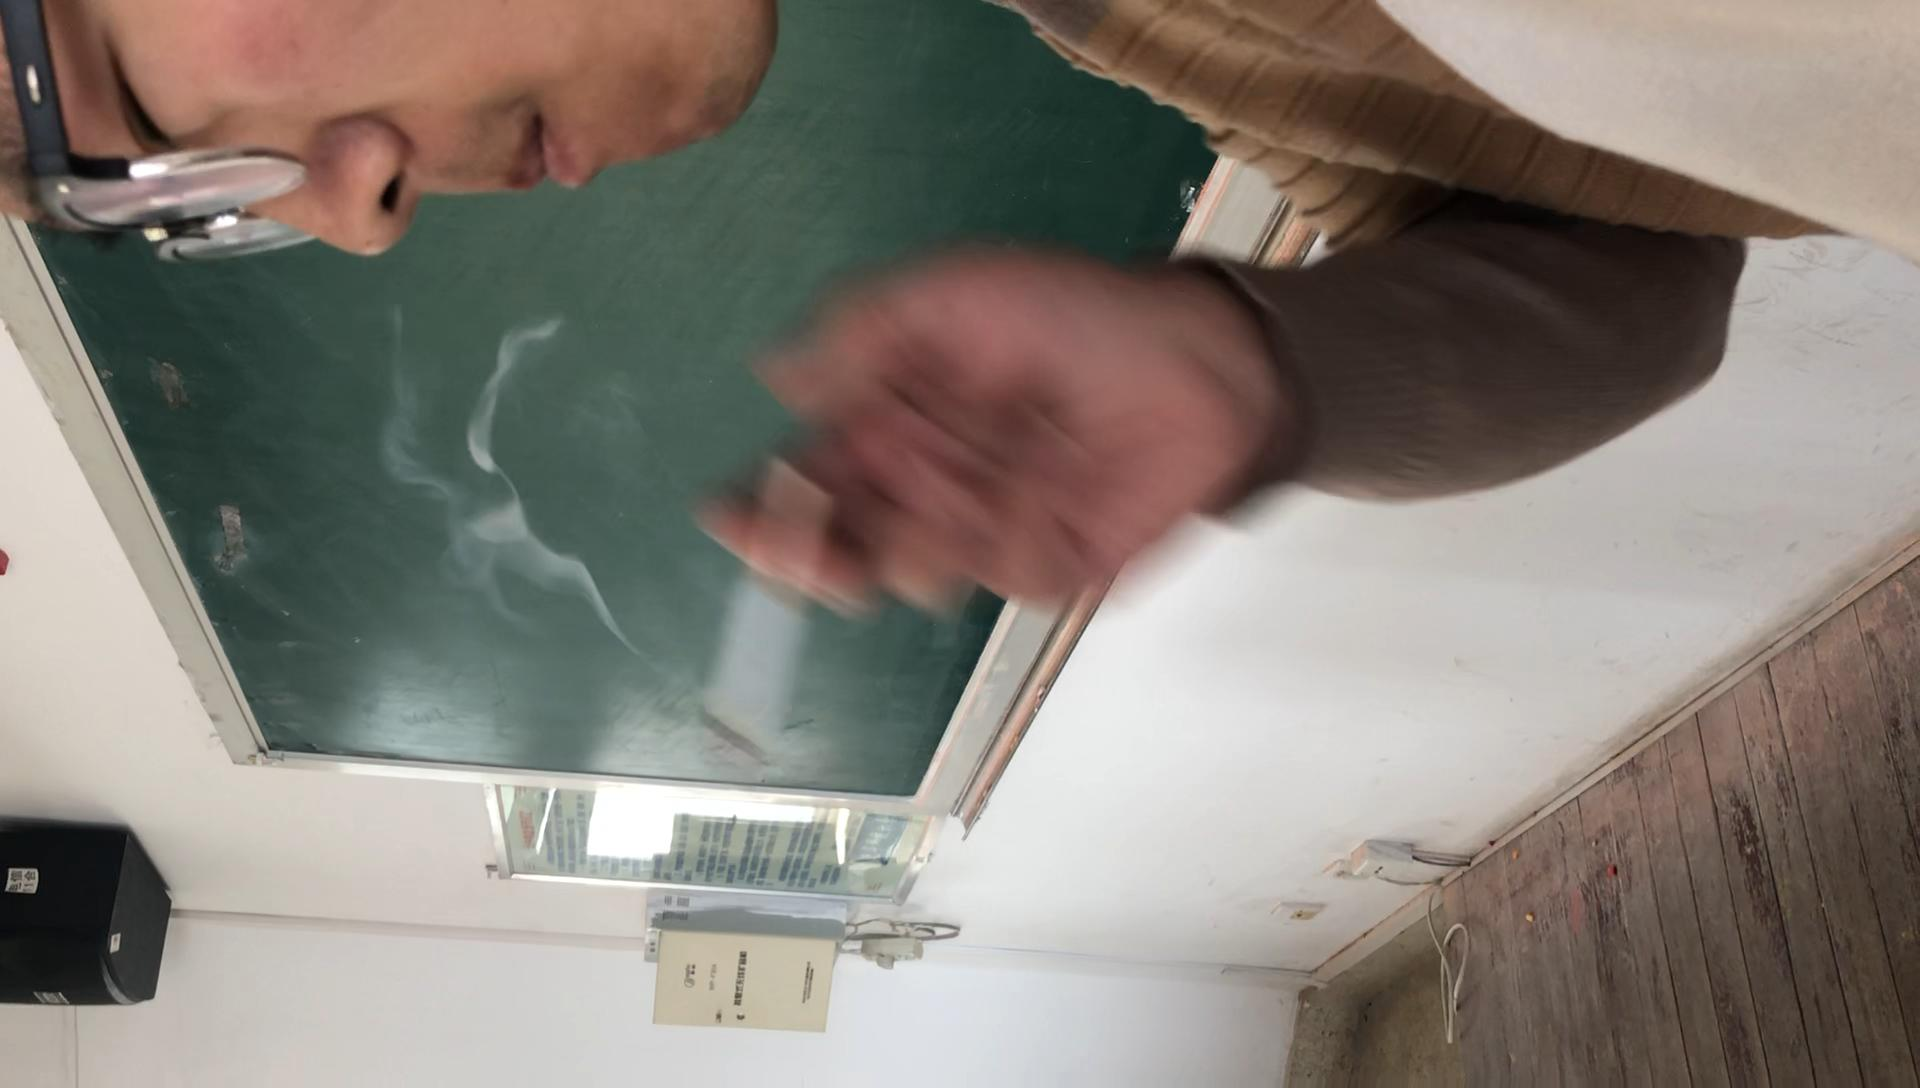yanwu: (372, 338, 651, 673)
